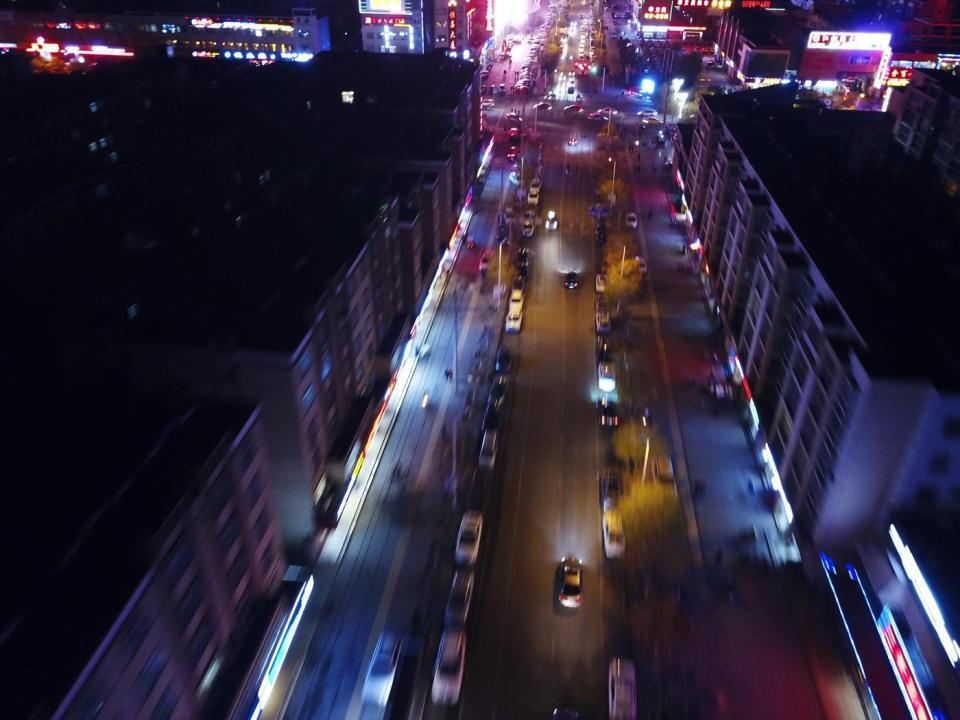car: (363, 630, 403, 705), (430, 626, 466, 704), (442, 566, 475, 626), (607, 655, 636, 720), (454, 509, 482, 564), (556, 555, 584, 605), (601, 513, 629, 559), (466, 465, 493, 511), (652, 452, 678, 499), (739, 524, 765, 569), (668, 582, 696, 623), (600, 469, 626, 512), (477, 429, 499, 465), (488, 374, 508, 406), (597, 399, 619, 426), (493, 344, 512, 374), (598, 361, 617, 391), (481, 398, 500, 427), (596, 335, 614, 361), (594, 311, 612, 334), (478, 250, 495, 273), (505, 311, 521, 332), (508, 290, 523, 311), (595, 294, 610, 312), (564, 269, 578, 288), (496, 229, 517, 241), (634, 256, 648, 274), (515, 247, 529, 264), (625, 212, 638, 230), (596, 274, 609, 292), (516, 260, 528, 278), (546, 210, 557, 229), (586, 112, 609, 121), (510, 172, 524, 186), (506, 153, 523, 164), (520, 223, 534, 236), (597, 106, 617, 115), (636, 109, 658, 117), (505, 112, 522, 122), (529, 178, 541, 192), (527, 191, 538, 206), (513, 276, 524, 290), (533, 102, 552, 110), (563, 104, 582, 112), (502, 238, 514, 250), (643, 116, 661, 124), (597, 219, 608, 232), (525, 210, 536, 222), (596, 231, 607, 243), (523, 62, 538, 70), (521, 64, 536, 72), (510, 164, 524, 172), (479, 99, 495, 106), (516, 84, 530, 92), (508, 127, 520, 136), (544, 92, 556, 101), (841, 77, 858, 83), (534, 167, 543, 178), (520, 75, 535, 81), (597, 201, 606, 211), (509, 146, 520, 154), (520, 68, 534, 74), (522, 70, 536, 76), (595, 186, 604, 195), (526, 60, 538, 66), (516, 81, 530, 86), (533, 40, 544, 46), (532, 46, 543, 52), (568, 138, 576, 146), (536, 157, 543, 166), (529, 50, 539, 56), (518, 80, 533, 84), (535, 142, 542, 150), (478, 85, 486, 92), (528, 54, 539, 59), (534, 149, 540, 158), (512, 39, 521, 45), (478, 74, 488, 79), (558, 73, 565, 80), (544, 20, 552, 26), (528, 38, 536, 44), (489, 85, 495, 93), (484, 63, 492, 69), (567, 80, 575, 86), (592, 176, 600, 182), (548, 5, 557, 10), (540, 24, 551, 28), (504, 52, 511, 58), (568, 69, 574, 76), (544, 18, 552, 23), (528, 57, 536, 62), (556, 42, 564, 47), (614, 27, 622, 32), (547, 10, 556, 14), (540, 27, 549, 31), (539, 31, 548, 35), (556, 47, 562, 53), (627, 18, 633, 24), (701, 47, 707, 53), (545, 16, 552, 21), (568, 87, 573, 94), (695, 46, 700, 53), (548, 12, 556, 16), (504, 50, 512, 54), (480, 70, 488, 74), (606, 3, 614, 7), (614, 30, 622, 34), (570, 20, 576, 25), (580, 25, 585, 31), (580, 33, 586, 38), (590, 36, 596, 41), (549, 0, 557, 3), (548, 3, 556, 6), (558, 81, 564, 85), (579, 70, 585, 74), (578, 48, 584, 52), (606, 1, 614, 4), (538, 35, 545, 38), (606, 8, 613, 11), (627, 7, 634, 10), (561, 37, 566, 41), (554, 60, 559, 64), (581, 38, 585, 43), (579, 44, 584, 48), (627, 11, 632, 15), (710, 47, 714, 52), (570, 27, 576, 30), (578, 57, 584, 60), (510, 34, 514, 38), (536, 38, 544, 40), (508, 41, 512, 45), (508, 46, 512, 50), (582, 0, 586, 4), (580, 52, 584, 56), (592, 63, 596, 67), (591, 59, 595, 63), (591, 54, 595, 58), (590, 50, 594, 54), (590, 48, 594, 52), (590, 45, 594, 49), (590, 40, 594, 44), (589, 0, 593, 4), (622, 14, 626, 18), (584, 19, 587, 24), (590, 30, 595, 33), (606, 6, 613, 8), (626, 4, 633, 6), (580, 15, 584, 18), (590, 18, 594, 21), (590, 22, 594, 25), (614, 15, 620, 17), (590, 5, 593, 8), (590, 10, 593, 13), (590, 14, 593, 17), (590, 34, 594, 36), (590, 26, 594, 28), (628, 17, 632, 19), (682, 47, 686, 49)
truck: (467, 235, 474, 250), (705, 61, 712, 68)
van: (502, 207, 514, 225), (499, 84, 505, 92), (499, 53, 504, 59)
